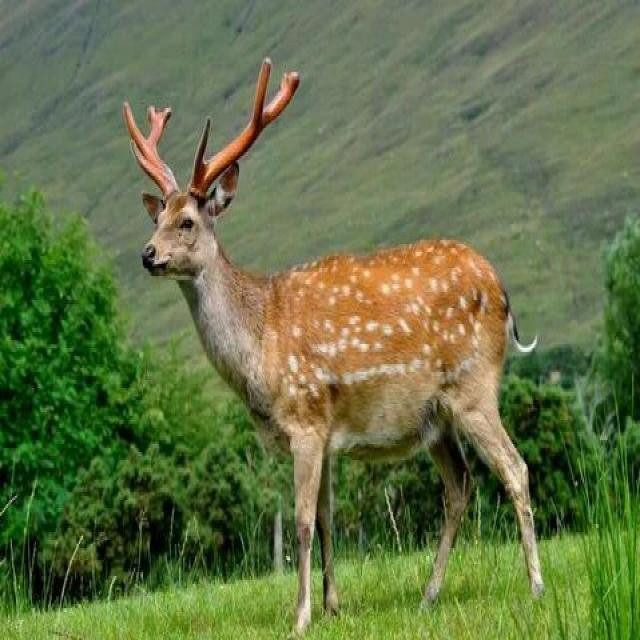deer: (112, 67, 535, 577)
